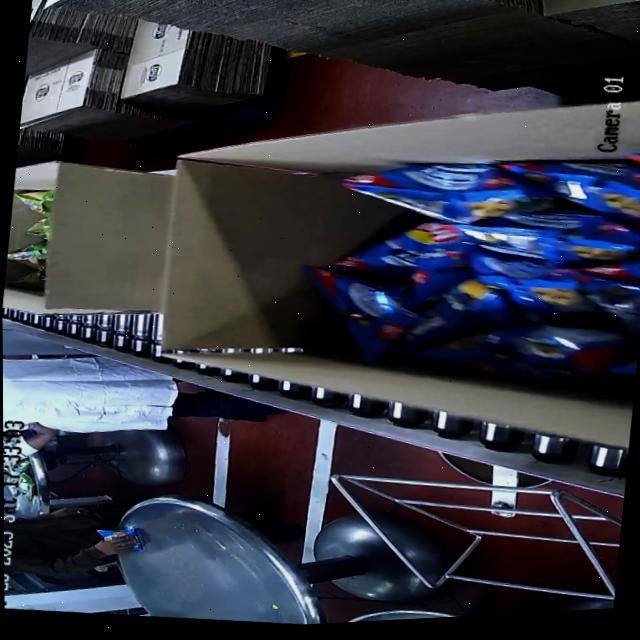PAPRIKA: (267, 110, 640, 402)
